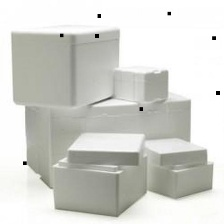foam_box: (20, 76, 196, 192), (5, 18, 123, 111), (47, 155, 152, 220), (64, 127, 146, 169), (146, 154, 216, 201), (109, 61, 171, 106), (140, 135, 210, 169)
